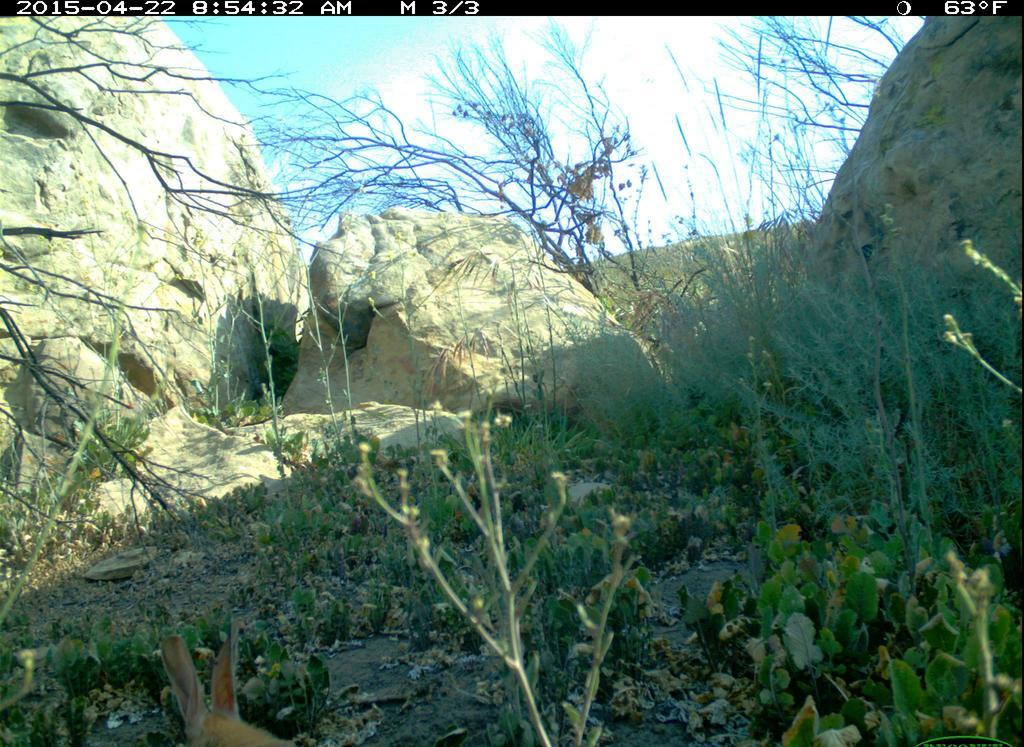rabbit: (140, 610, 319, 747)
